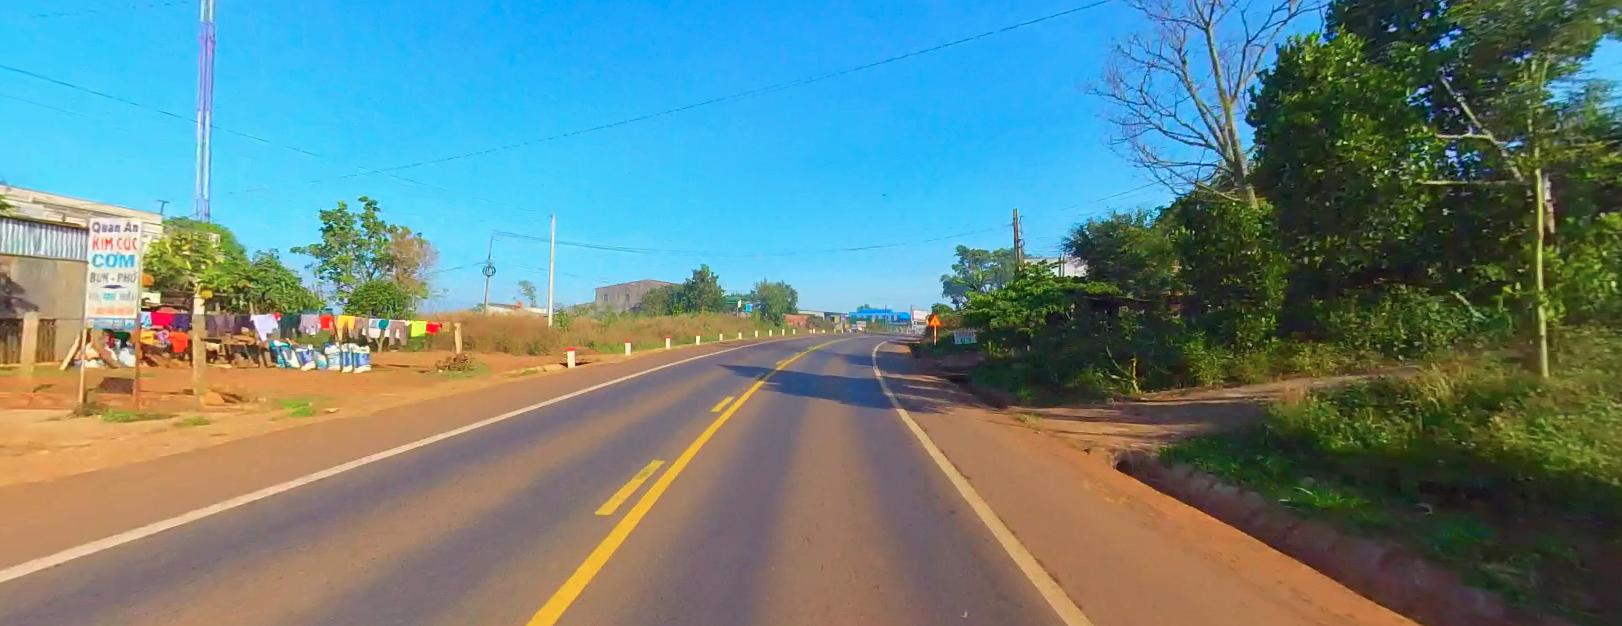Nguy hiem: (928, 312, 941, 324)
